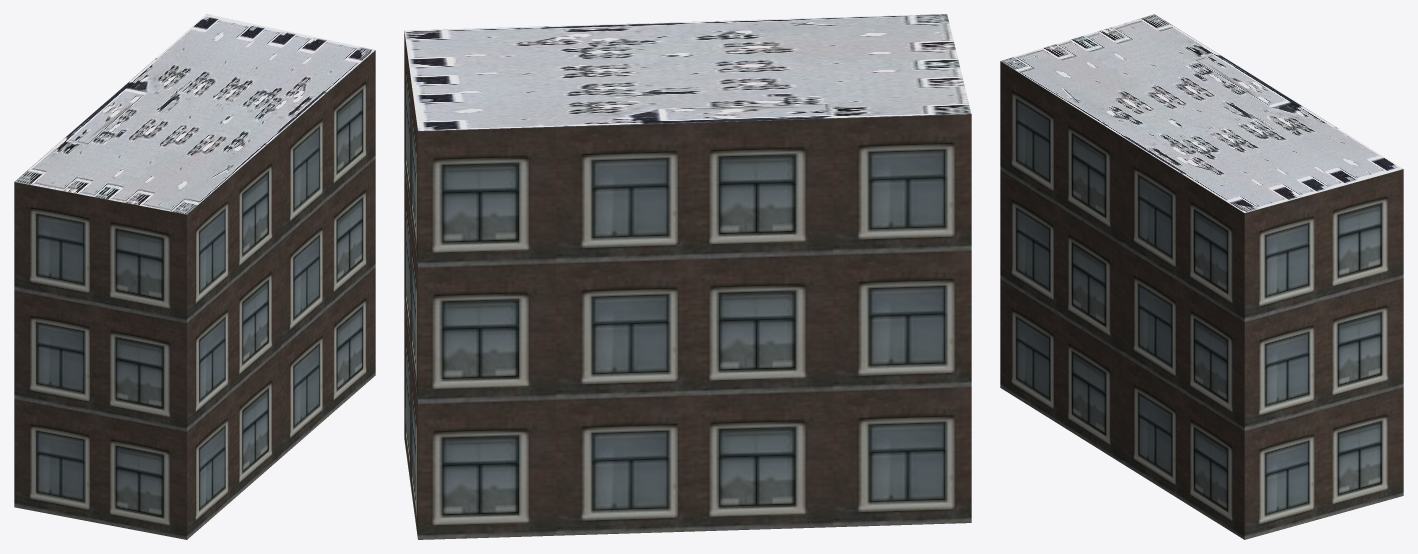
The model's file is ResTex__40.fbx.
3 views of the same model, side by side, from view 1: azimuth 30°, elevation 25°; view 2: azimuth 150°, elevation 25°; view 3: azimuth 270°, elevation 25° (orthographic). The views are drawn at different scales.
Parts seen in each view (by area): view 1: CityEngineMaterial_16_m, CityEngineMaterial_15_m; view 2: CityEngineMaterial_16_m, CityEngineMaterial_15_m; view 3: CityEngineMaterial_16_m, CityEngineMaterial_15_m.
Boxes of the visible parts, bbox=[...] form: CityEngineMaterial_16_m: bbox=[14, 50, 375, 539]; CityEngineMaterial_15_m: bbox=[14, 14, 375, 214]; CityEngineMaterial_16_m: bbox=[404, 31, 971, 539]; CityEngineMaterial_15_m: bbox=[404, 14, 971, 130]; CityEngineMaterial_16_m: bbox=[1000, 61, 1403, 539]; CityEngineMaterial_15_m: bbox=[1001, 14, 1402, 212].
Size of the model in its own units: 11.76 by 9 by 10.06.
Materials: 2 (2 with a texture image).
